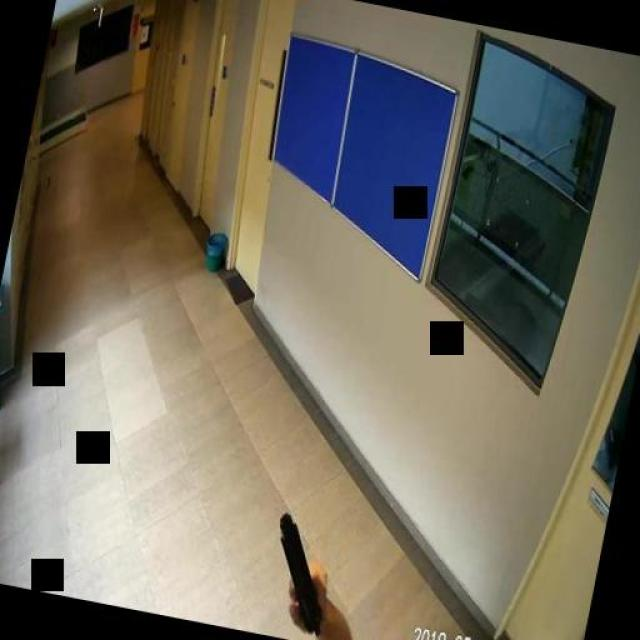gun: (259, 509, 341, 636)
